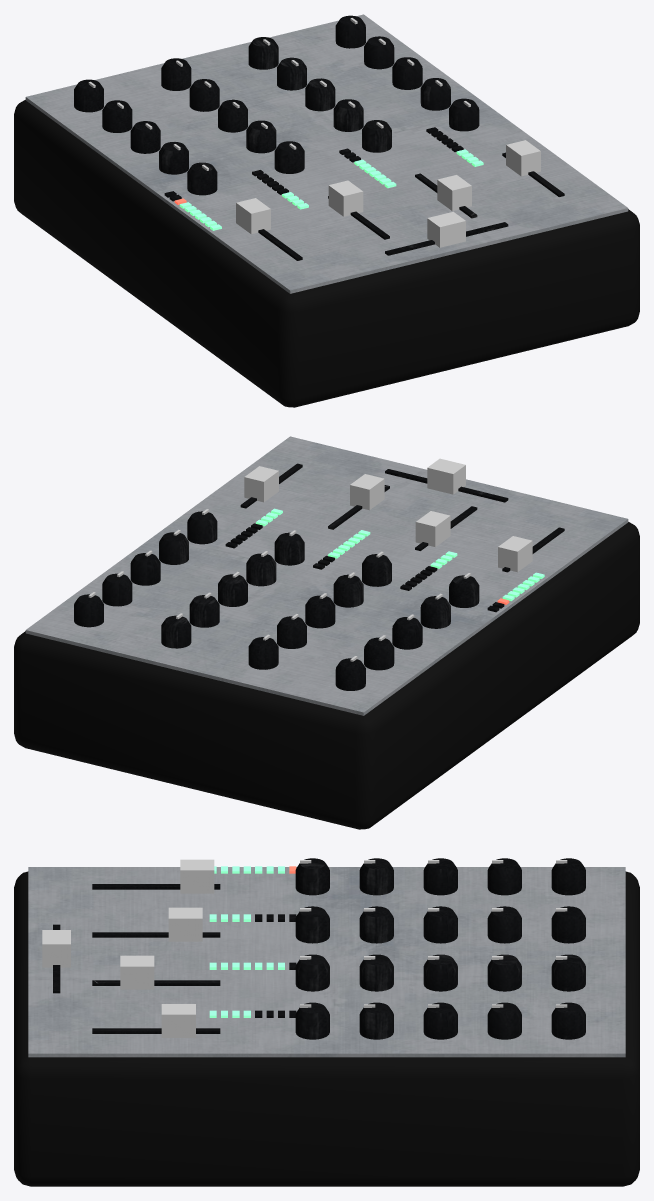
File: dj_mixer_djm.gltf
The picture shows the model from 3 angles, top to bottom: view 1: azimuth 30°, elevation 25°; view 2: azimuth 150°, elevation 25°; view 3: azimuth 270°, elevation 25°; orthographic projection. The views are drawn at different scales.
Parts seen in each view (by area): view 1: dj_mixer_djm; view 2: dj_mixer_djm; view 3: dj_mixer_djm.
Boxes of the visible parts, bbox=[...] form: dj_mixer_djm: bbox=[14, 14, 639, 407]; dj_mixer_djm: bbox=[14, 436, 639, 829]; dj_mixer_djm: bbox=[14, 858, 639, 1186].
Bounding box in the file's own units: 0.33 × 0.1245 × 0.44.
Materials: 6 (3 with a texture image).
